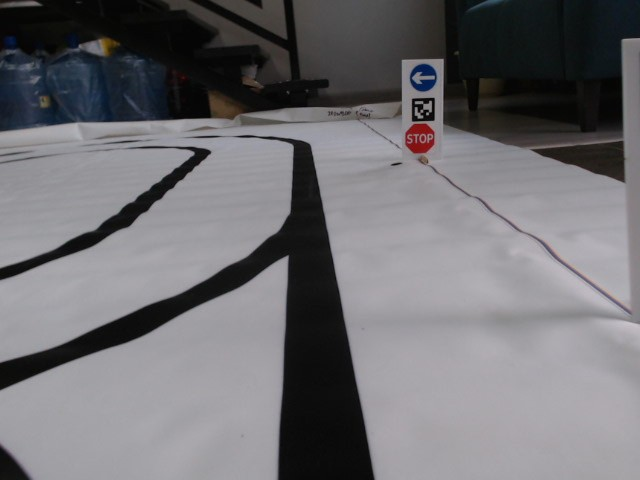Stop: (403, 121, 436, 154)
